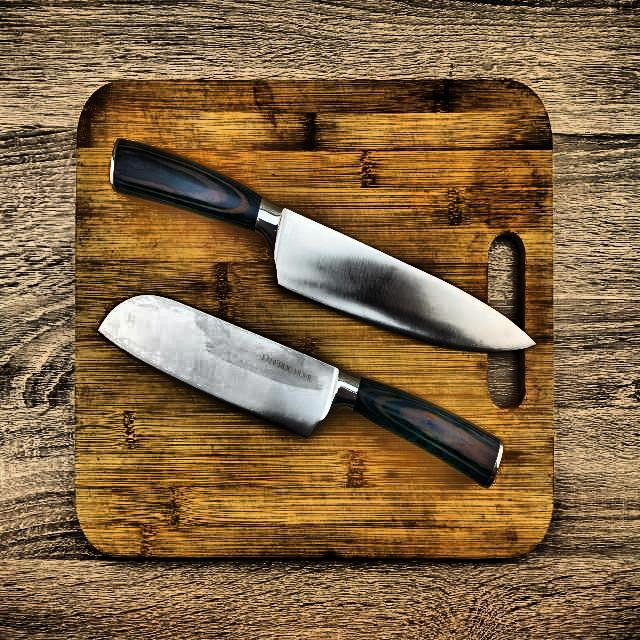knife: (115, 138, 541, 352), (100, 296, 505, 488)
